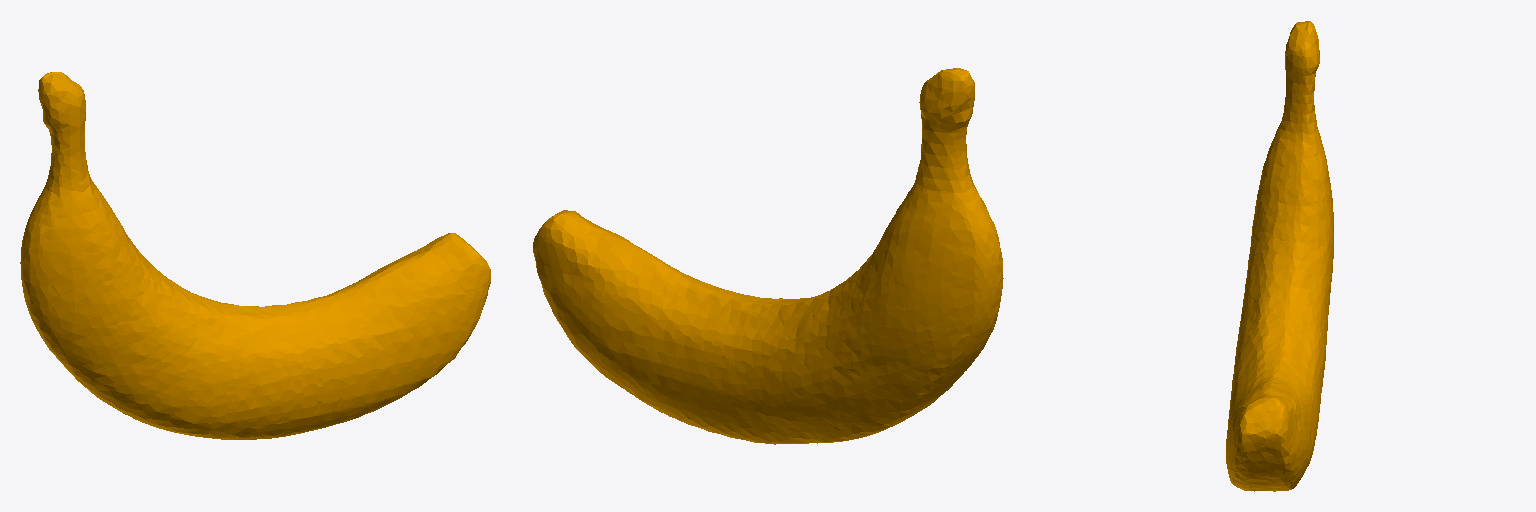
robot.urdf — model_1778240047:
<?xml version="1.0" ?>
<robot name="model_1778240047">
  <link name="base_link">
    <inertial>
      <origin xyz="0.020132468019648228 -0.1350670712336351 1.3050625000004743" rpy="0 0 0"/>
      <mass value="1.1692655318521812"/>
      <inertia ixx="0.2717037785098683" ixy="0.25010029541709067" ixz="-0.062424977990844295" iyy="0.7671960603162135" iyz="0.02902568312930117" izz="0.981553561806061"/>
    </inertial>
    <visual>
      <origin xyz="0 0 1.2925379276275635" rpy="0 0 0"/>
      <geometry>
        <mesh filename="visual.obj" scale="3.0 3.0 3.0"/>
      </geometry>
    </visual>
    <collision>
      <origin xyz="0 0 1.2925379276275635" rpy="0 0 0"/>
      <geometry>
        <mesh filename="collision.obj" scale="3.0 3.0 3.0"/>
      </geometry>
    </collision>
  </link>
</robot>

--- Render facts (derived) ---
The picture shows the robot from 3 angles, left to right: view 1: azimuth 30°, elevation 25°; view 2: azimuth 150°, elevation 25°; view 3: azimuth 270°, elevation 25°; orthographic projection.
Model model_1778240047 with 1 links and 0 joints (none), rooted at base_link, posed every joint at zero.
Visible links, largest first — view 1: base_link; view 2: base_link; view 3: base_link.
Link boxes in pixels (x1,y1,x2,y2): base_link: [20, 72, 490, 439]; base_link: [533, 68, 1003, 444]; base_link: [1226, 21, 1333, 491].
Size in the robot's own frame: 3 by 0.7255 by 2.59 metres.
1 mesh visuals loaded from 1 distinct referenced files (1 OBJ).
